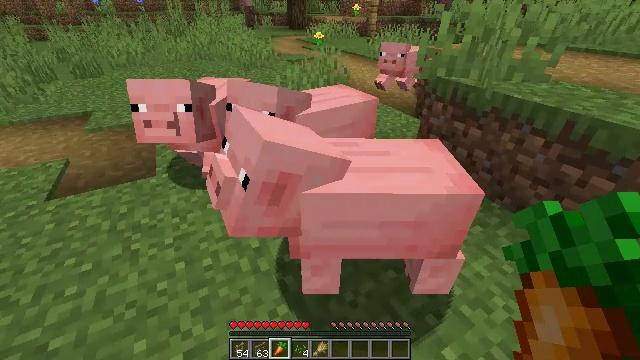pig: (213, 108, 455, 298), (226, 77, 378, 139), (128, 74, 221, 154), (378, 40, 433, 89)
